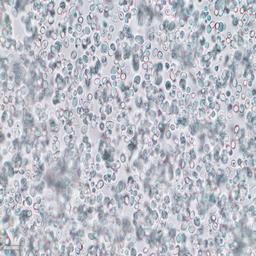Yeast: (42, 39, 243, 211)
